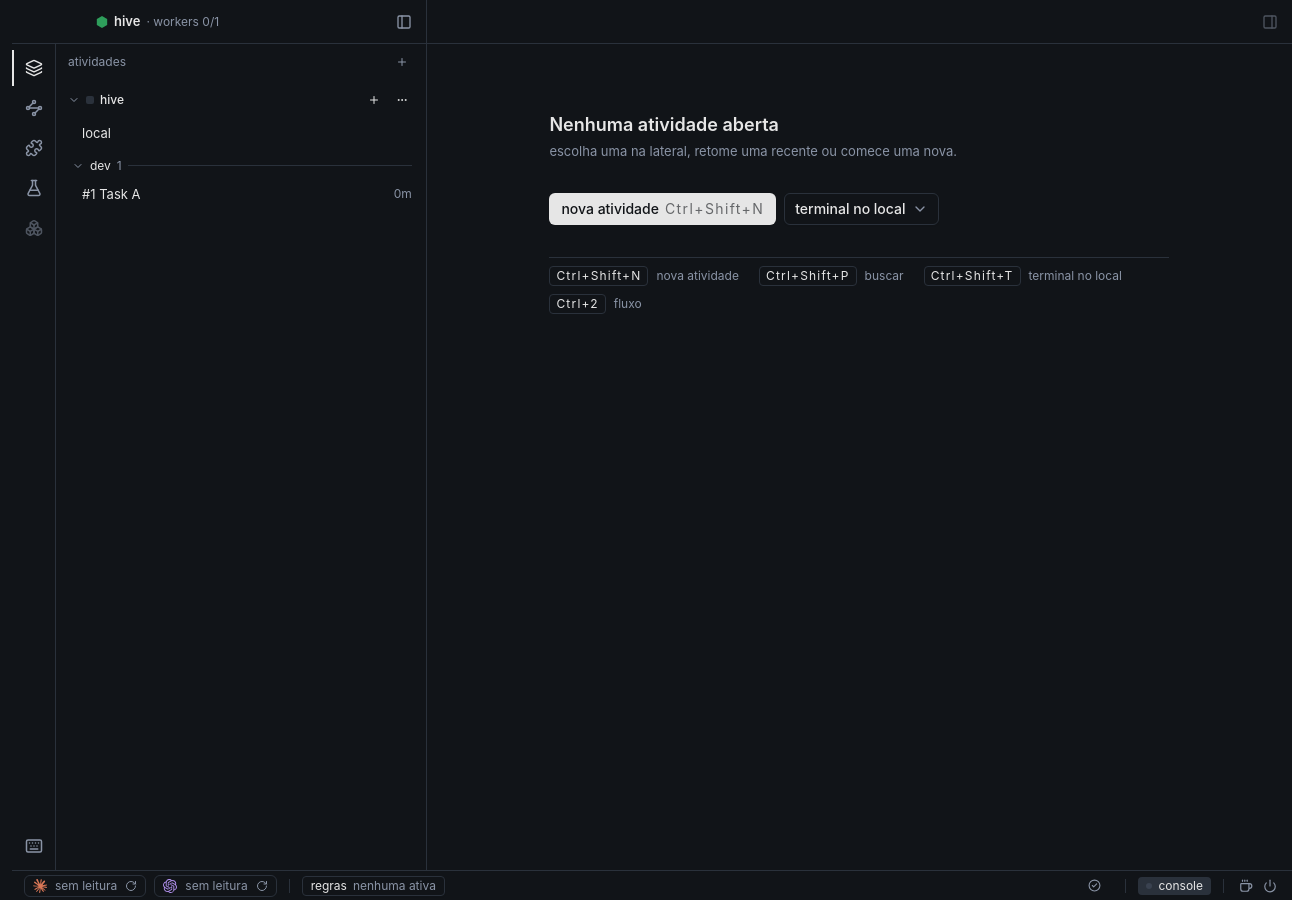
Scenario: a command run from executar › switches the footer's chip to it, running, and leaves the drawer closed until the chip is clicked (redesign 05)
Click the button named "fluxo" at (34, 108), box left=12, top=90, right=56, bottom=126
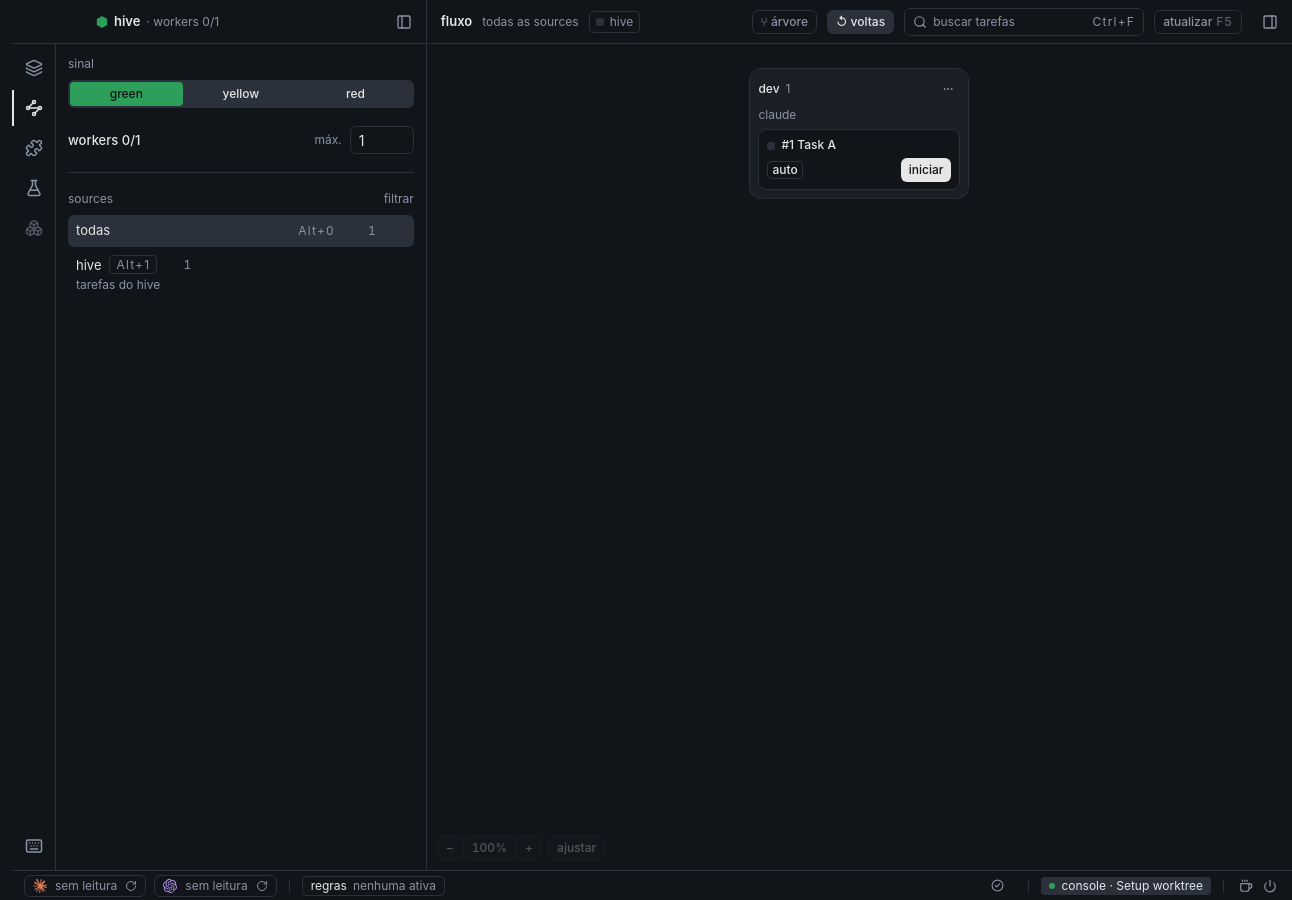
Expected: the button "console · Setup worktree" is shown, left=1042, top=876, right=1211, bottom=894
Right-click the list item "#1 Task A" at (859, 160), box left=758, top=129, right=960, bottom=190
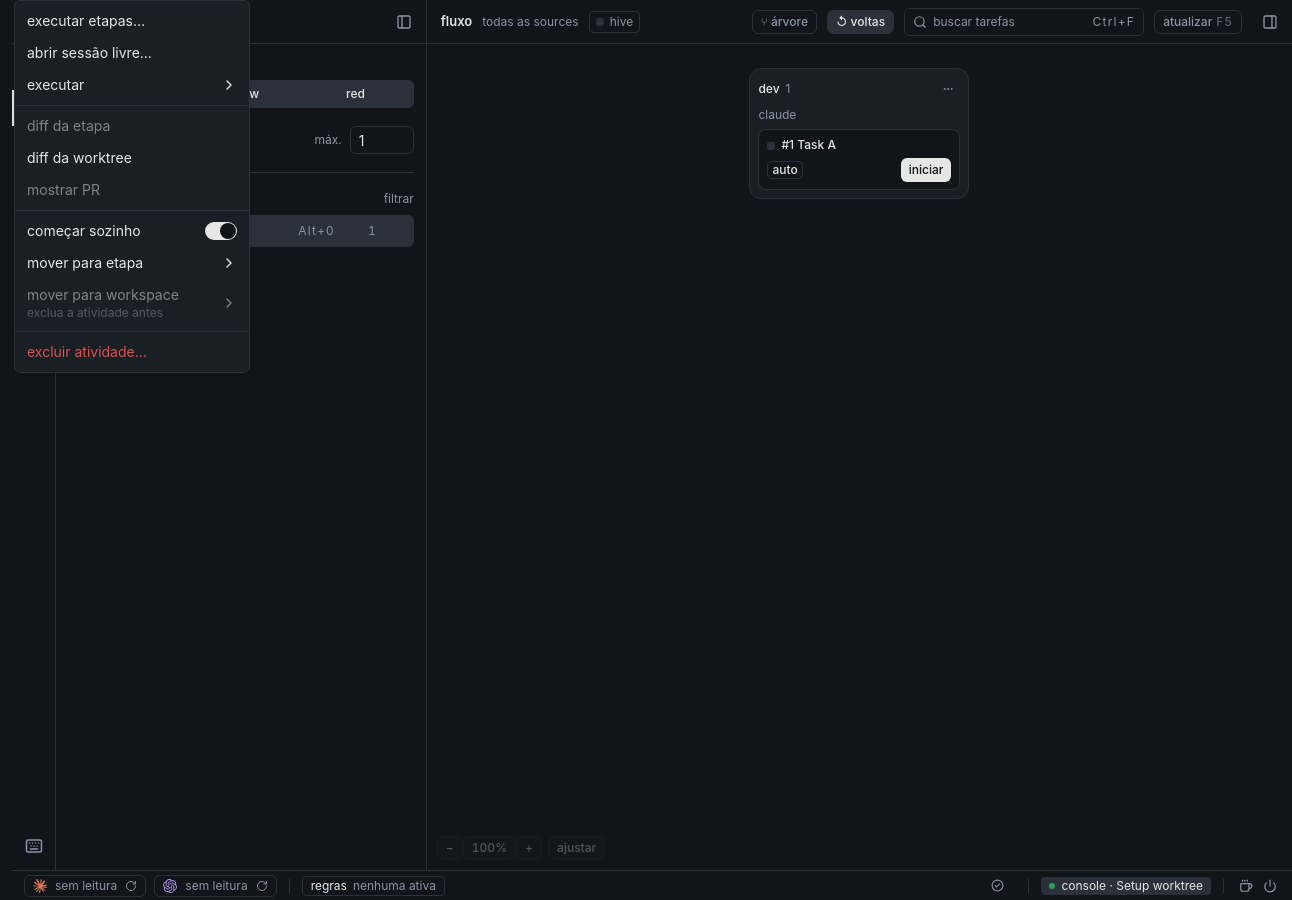
Click the menu item "executar" at (56, 84), box left=27, top=76, right=237, bottom=93
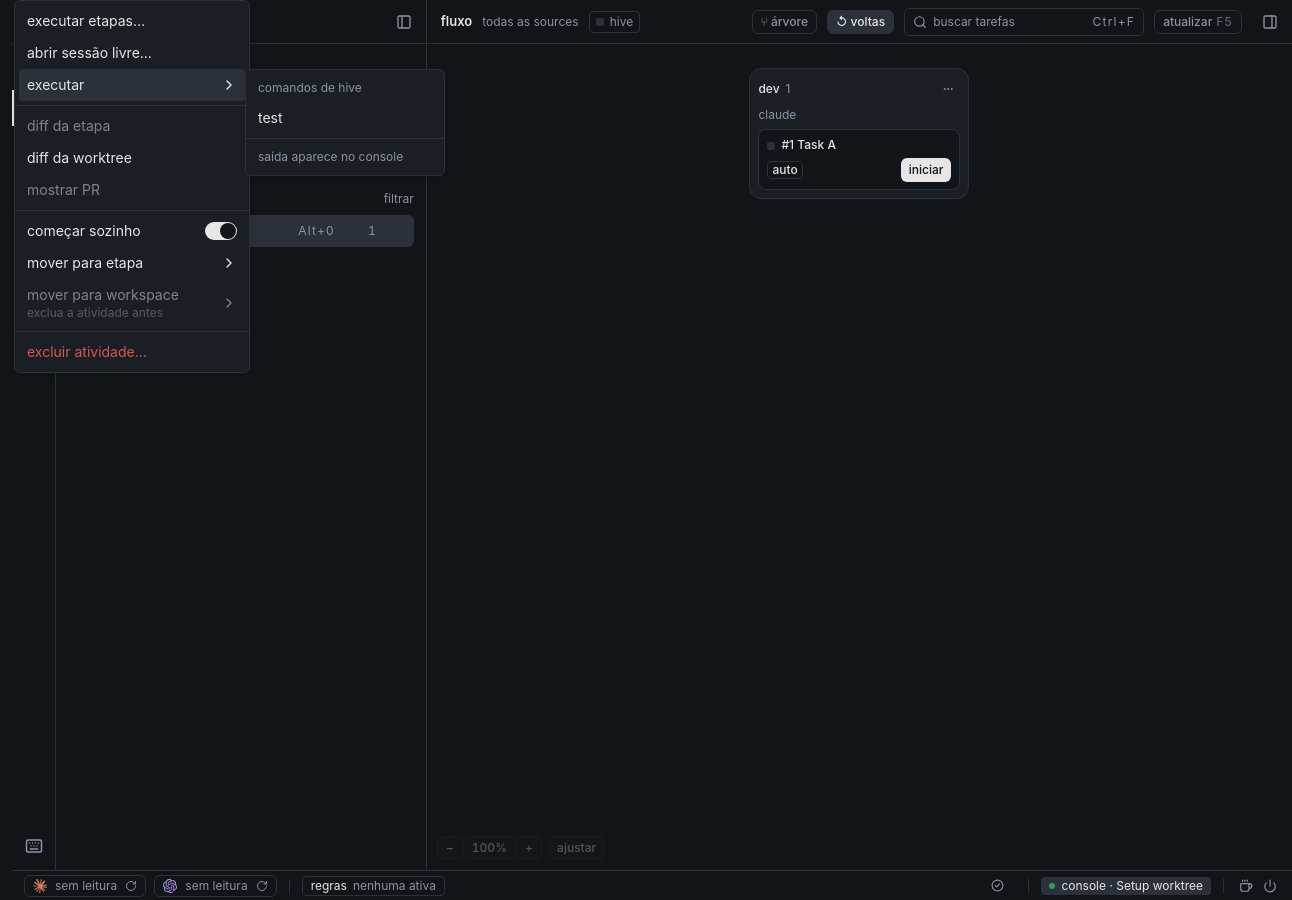
Click the menu item "test" at (270, 118), box left=258, top=109, right=283, bottom=126
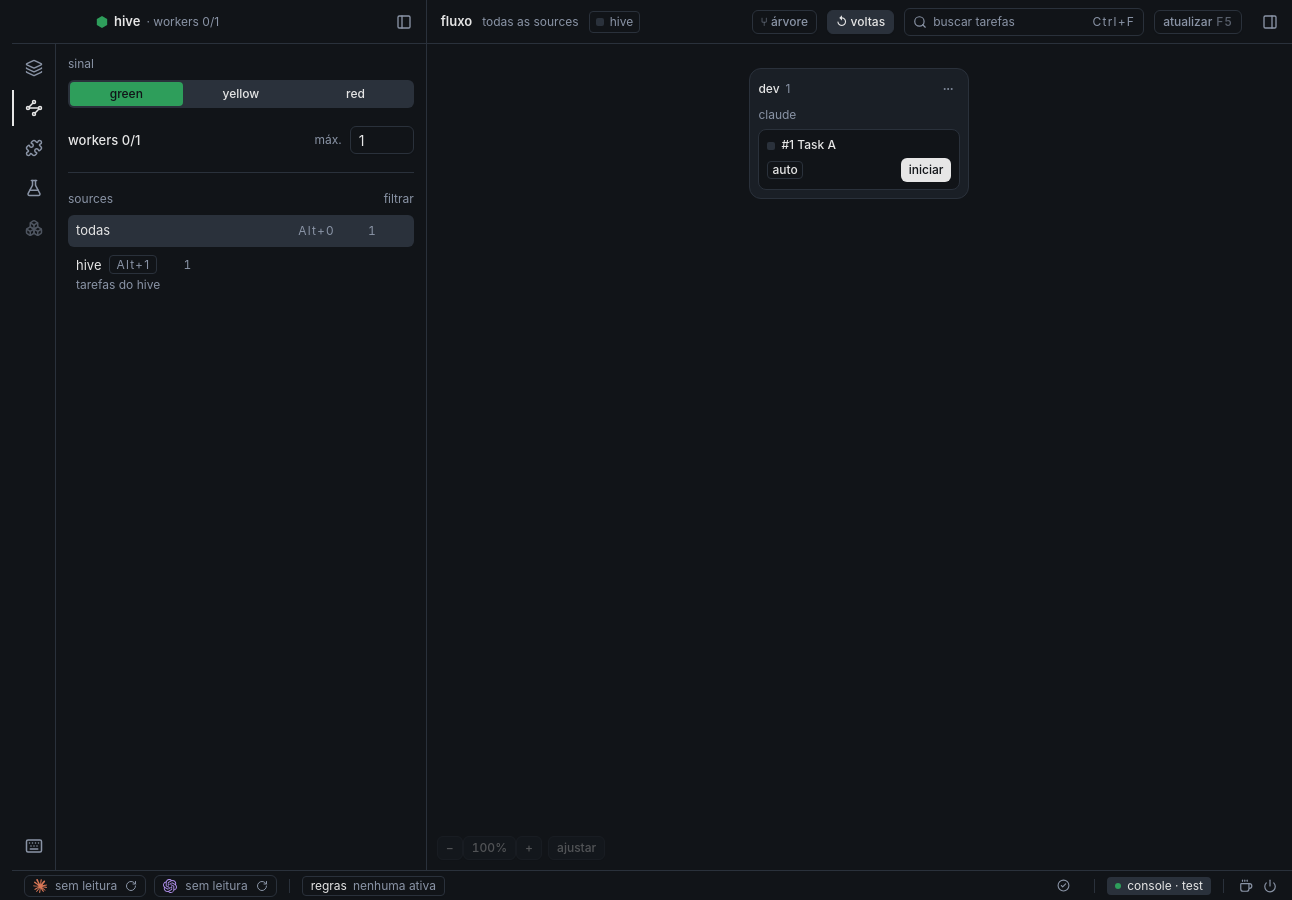
Expected: the button "console · test" is shown
Click the button "console · test" at (1159, 886), box left=1107, top=876, right=1211, bottom=894
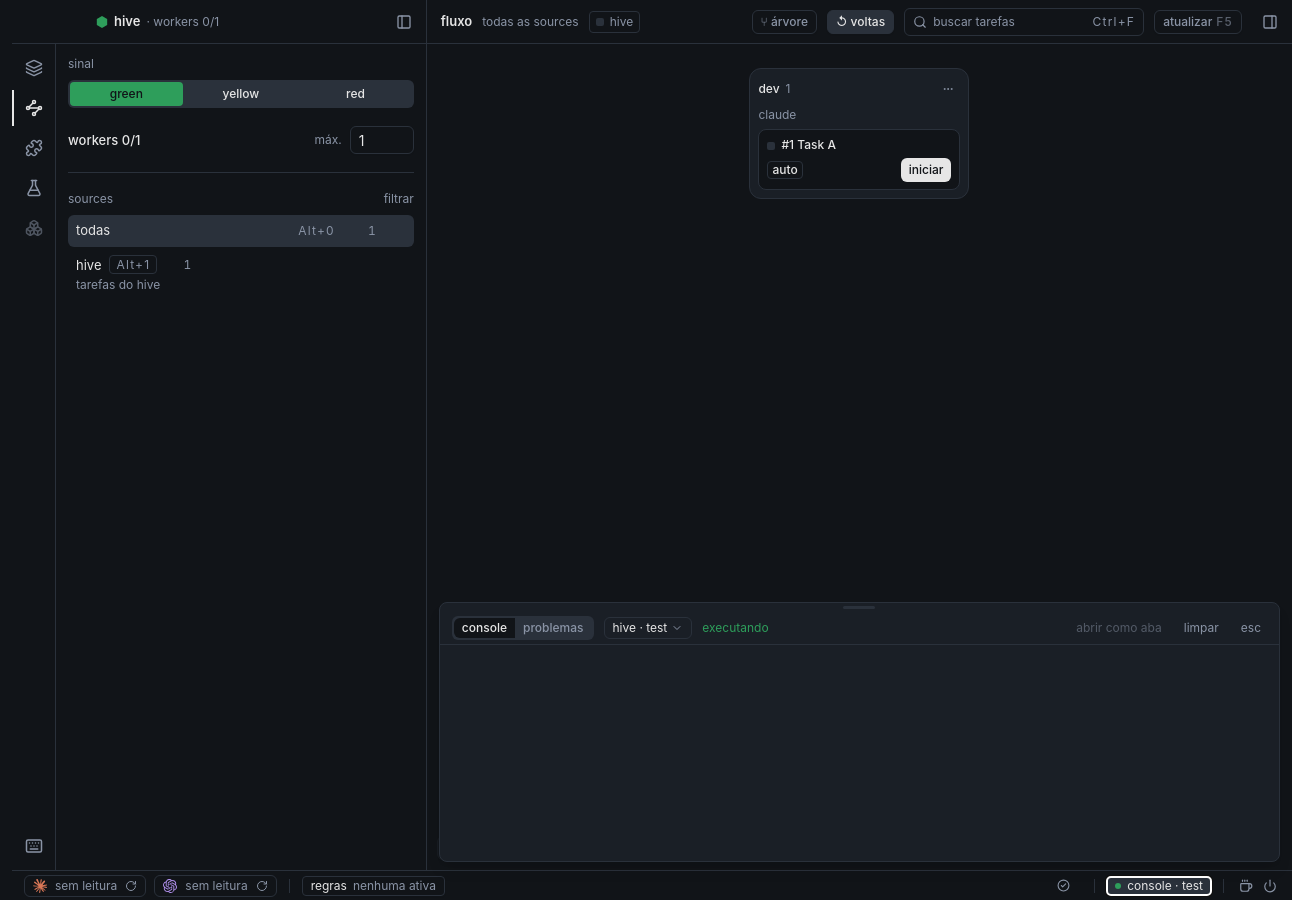
Expected: the message reads "executando", left=702, top=620, right=769, bottom=634
